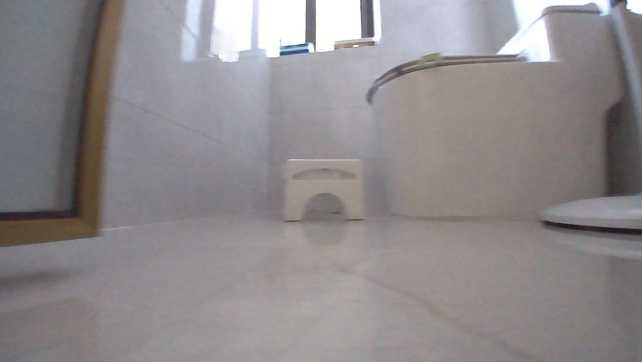plastic_stool: (279, 153, 367, 223)
toilet: (364, 2, 628, 221)
